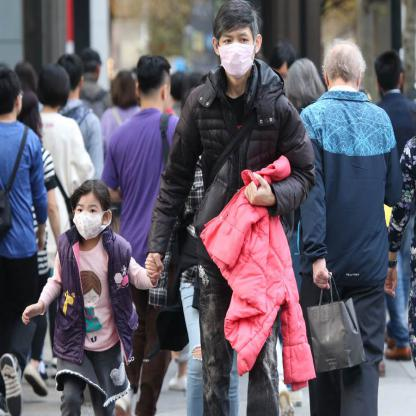Wearing_Mask: (216, 30, 256, 77), (71, 203, 102, 241)
